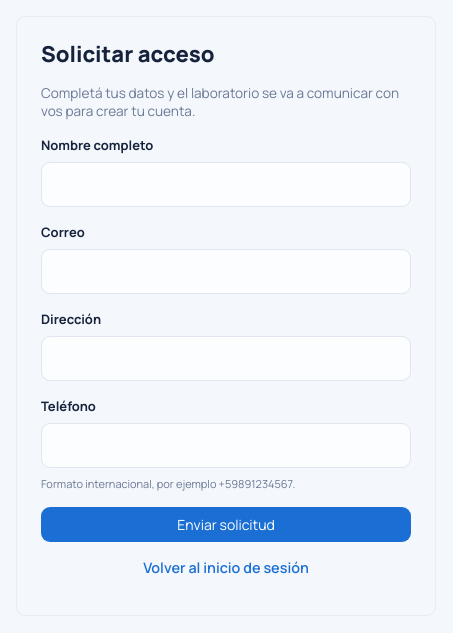
Test: SolicitarAcceso › muestra el mensaje de confirmación que devuelve el backend
Type "Dr. Juan Pérez" into the field labelled "Nombre completo".
click(226, 184); type("Dr. Juan Pérez")  # box [41,162,411,207]
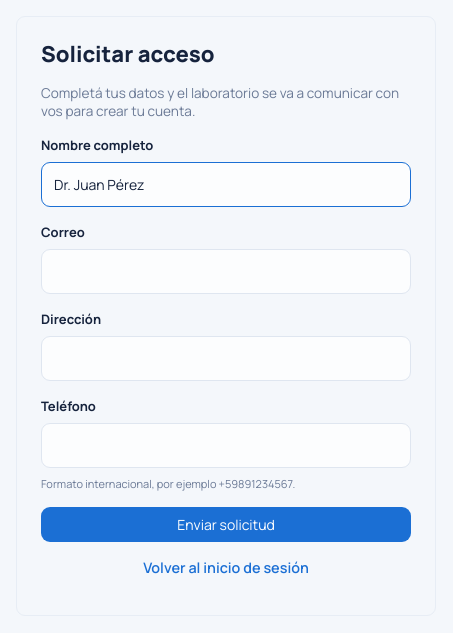
Type "juan@mail.com" into the field labelled "Correo".
click(226, 272); type("juan@mail.com")  # box [41,249,411,294]
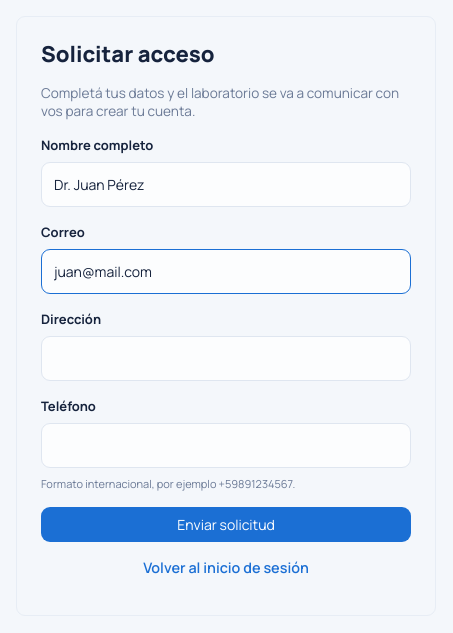
Type "Av. 18 de Julio 1234" into the field labelled "Dirección".
click(226, 358); type("Av. 18 de Julio 1234")  # box [41,336,411,381]
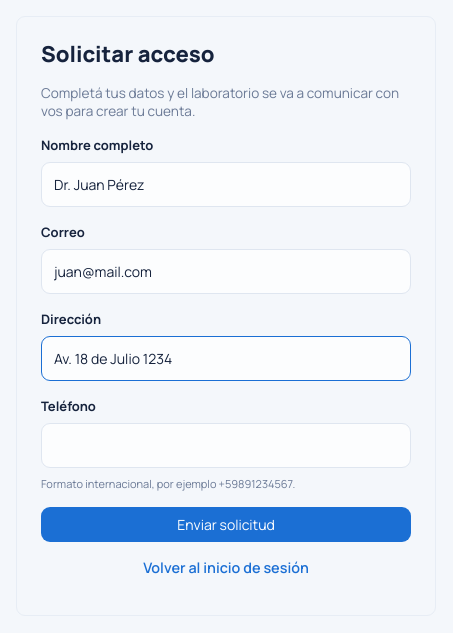
Type "+59891234567" into the field labelled "Teléfono".
click(226, 446); type("+59891234567")  # box [41,423,411,468]
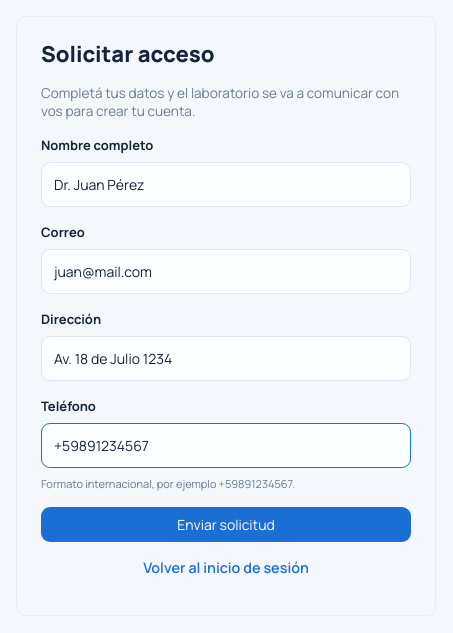
Click the button "Enviar solicitud".
click(226, 524)  # box [41,507,411,542]
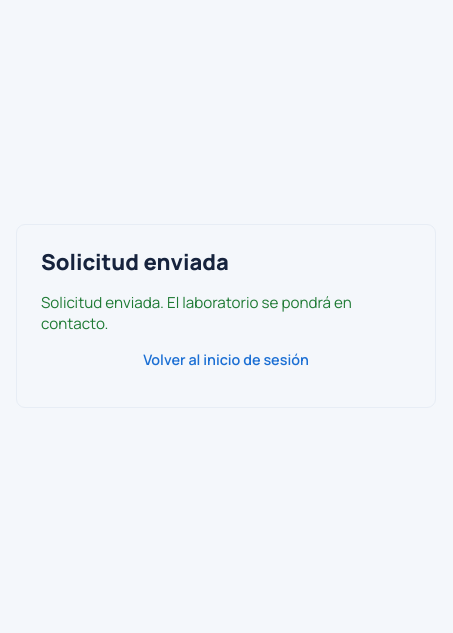
Result: the text "Solicitud enviada. El laboratorio se pondrá en contacto." is shown at [41,292,352,334]
